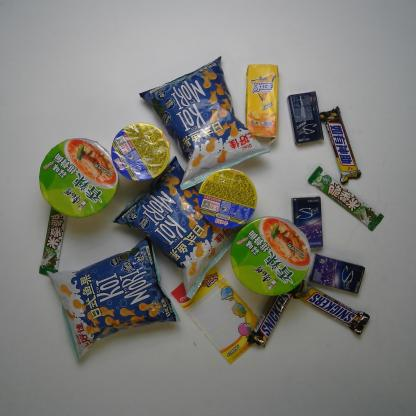Chocolate: (306, 164, 387, 233), (291, 278, 372, 336), (316, 104, 364, 186), (245, 287, 294, 350), (36, 204, 68, 280)
Drink: (242, 62, 283, 148)
Gum: (308, 253, 367, 296), (285, 89, 326, 147), (288, 192, 324, 251)
Instant Noodles: (229, 214, 313, 298), (38, 136, 121, 218), (195, 166, 260, 230), (110, 120, 172, 183)
Puffed Food: (111, 153, 243, 302), (137, 54, 272, 192), (43, 233, 182, 363)
Stationery: (166, 259, 264, 367)
